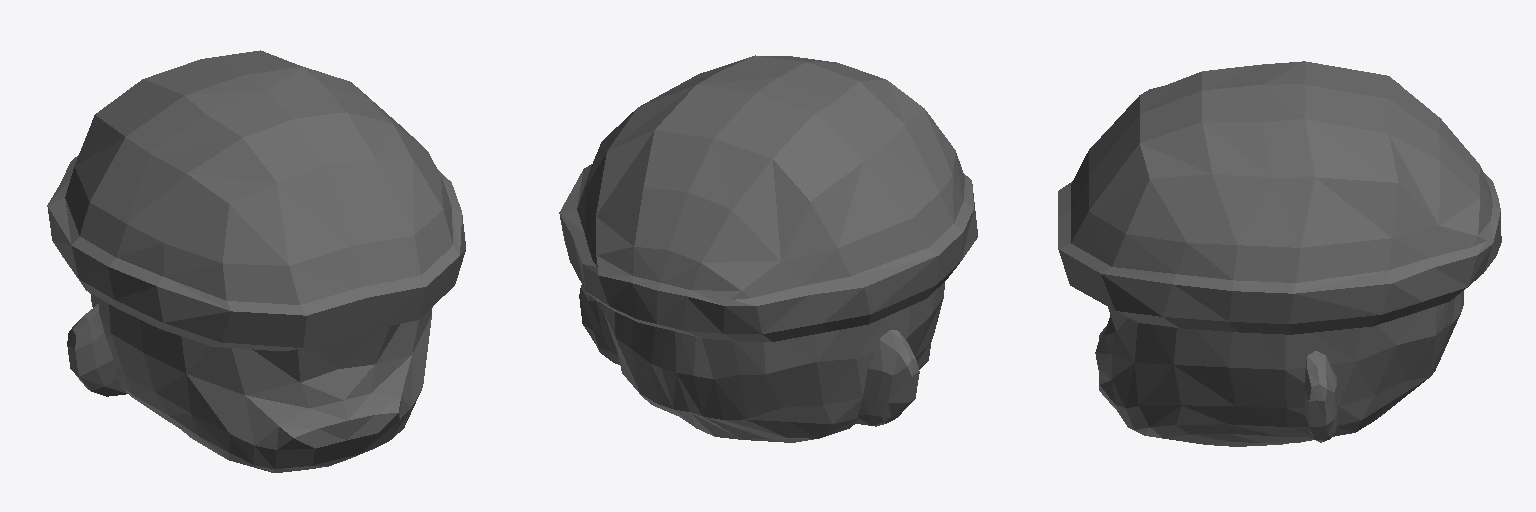
Rendered from thief_head.obj.
3 renders of one model, left to right at view 1: azimuth 30°, elevation 25°; view 2: azimuth 150°, elevation 25°; view 3: azimuth 270°, elevation 25°, orthographic.
Visible parts, largest first — view 1: thief_head; view 2: thief_head; view 3: thief_head.
Part boxes in pixels (bbox=[...]): thief_head: bbox=[47, 50, 465, 472]; thief_head: bbox=[559, 55, 977, 442]; thief_head: bbox=[1058, 61, 1501, 446].
Bounding box in the file's own units: 18.72 × 17.3 × 20.25.